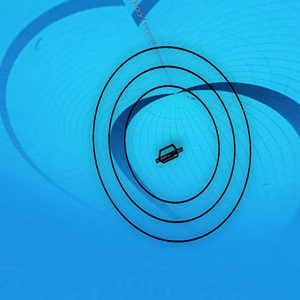circle: (88, 43, 257, 250)
submarine: (154, 144, 184, 166)
